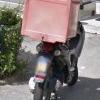Motorcycle: (16, 22, 86, 100)
